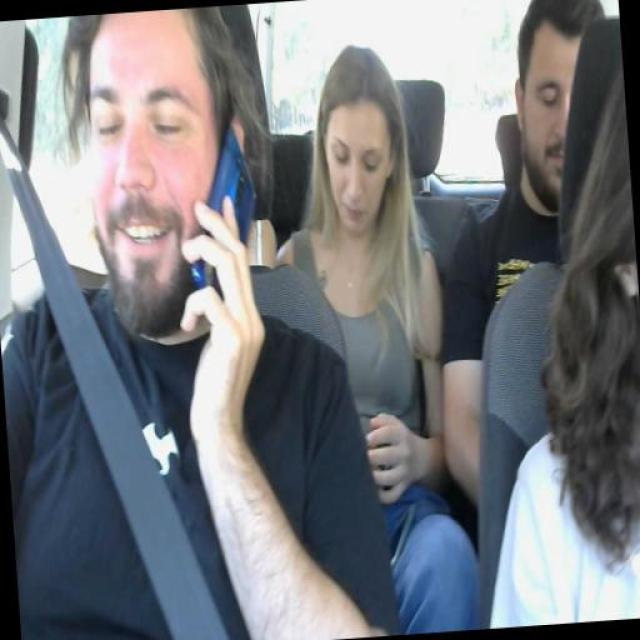phone: (192, 125, 261, 296)
